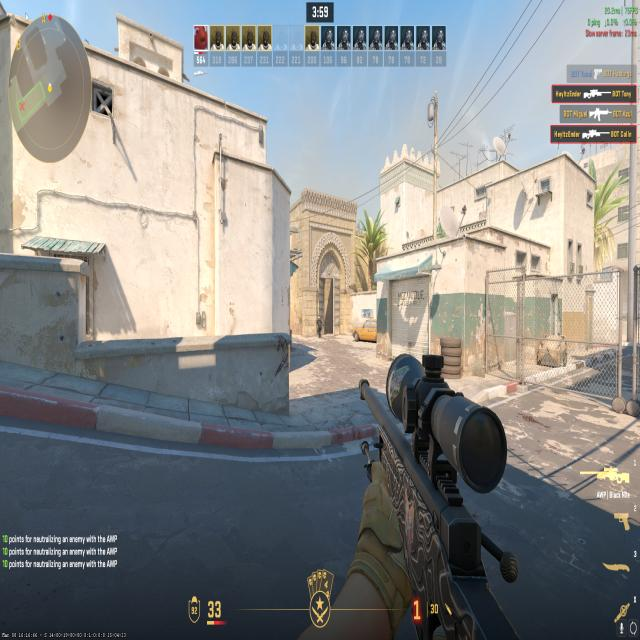ct: (315, 312, 323, 341)
